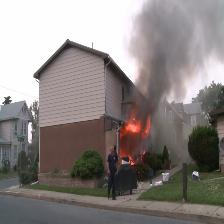fire: (103, 100, 164, 178)
smoke: (130, 1, 224, 140)
